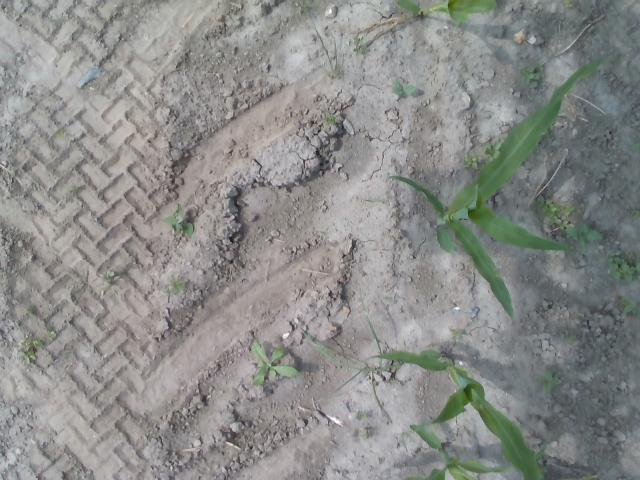Maize: (386, 58, 604, 317), (363, 349, 541, 480), (399, 425, 548, 480), (396, 0, 498, 21)
Weeds: (300, 290, 396, 424), (530, 196, 604, 248), (250, 340, 298, 387), (162, 202, 195, 237), (604, 250, 640, 282), (18, 336, 44, 364), (518, 60, 548, 84), (481, 138, 506, 162), (535, 370, 559, 392), (390, 79, 417, 96), (619, 298, 640, 317), (352, 36, 370, 54), (360, 424, 378, 440), (464, 154, 481, 170), (294, 0, 312, 14), (169, 281, 184, 295), (630, 132, 640, 152), (450, 328, 462, 340), (326, 114, 338, 125), (542, 128, 554, 139), (537, 467, 549, 478), (46, 326, 57, 338), (356, 410, 367, 420), (631, 208, 640, 218), (28, 306, 36, 317), (55, 129, 65, 137), (610, 53, 618, 63), (562, 0, 572, 8), (104, 270, 114, 278), (68, 185, 76, 194)
